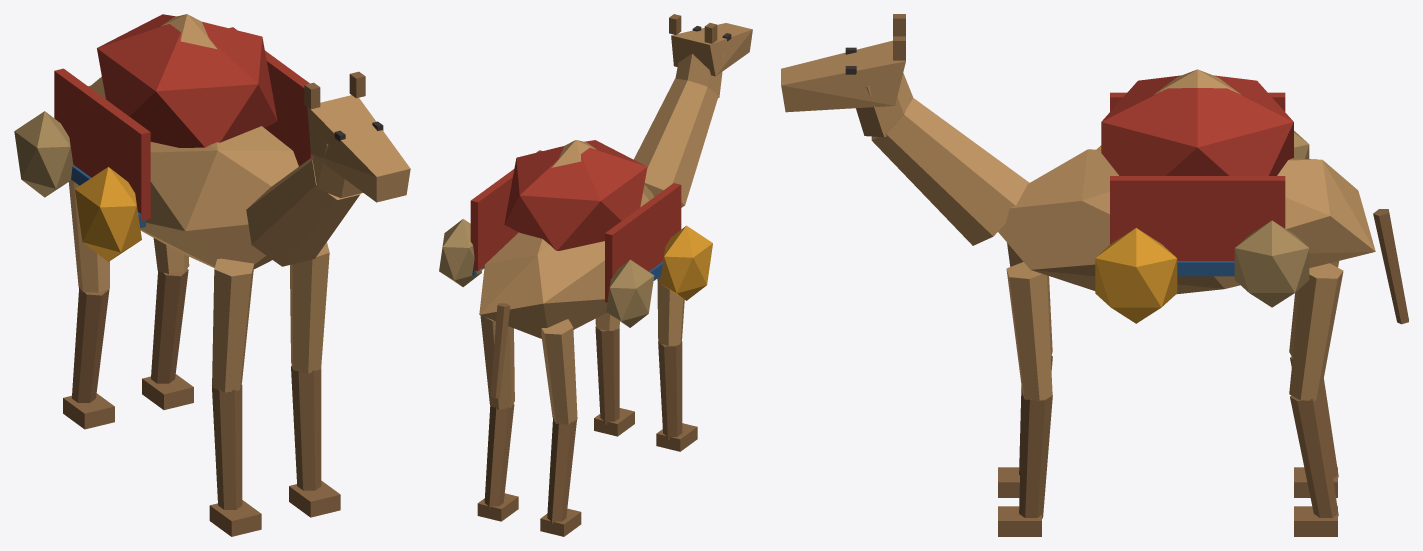
File: desert_camel.glb
3 views of the same model, side by side, from view 1: azimuth 30°, elevation 25°; view 2: azimuth 150°, elevation 25°; view 3: azimuth 270°, elevation 25° (orthographic). The views are drawn at different scales.
Visible parts, largest first — view 1: desert_camel; view 2: desert_camel; view 3: desert_camel.
Boxes of the visible parts, x1,y1,x2,y2 form: desert_camel: (14, 14, 410, 536); desert_camel: (439, 14, 752, 536); desert_camel: (781, 14, 1408, 536).
Bounding box in the file's own units: 1.44 × 2.43 × 2.86.
